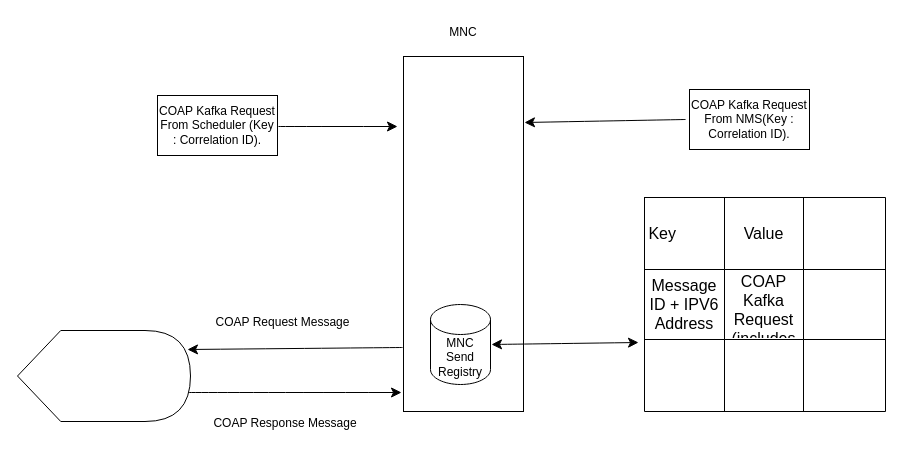
This 903x455 diagram has some shape labels left out. The shapes that lost their labels are listed below. From the top down, each one's box as (x1, y1, x2, y2) in pixels, then its label:
(402, 56, 524, 412): 1. Convert CoAP Kafka (JSON) to COAP Request. CRIDSCHED CRIDNMS
(16, 330, 190, 422): NODE
